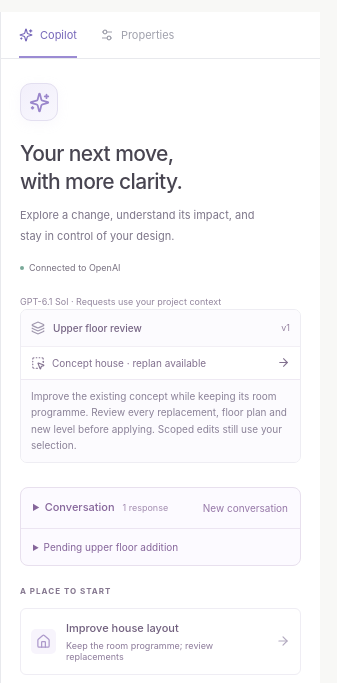
Scenario: upper floor addition review › loads the saved upper-floor brief without implying it has already been applied
This screenshot has width=337, height=683.
Click the heading "Pending upper floor addition".
click(111, 547)  # box [44,541,178,553]
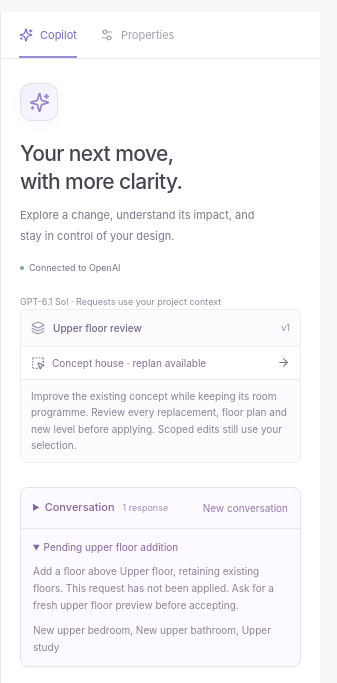
Expected: the text "Ask for a fresh upper floor preview before accepting" is shown, [33,565,274,611]
